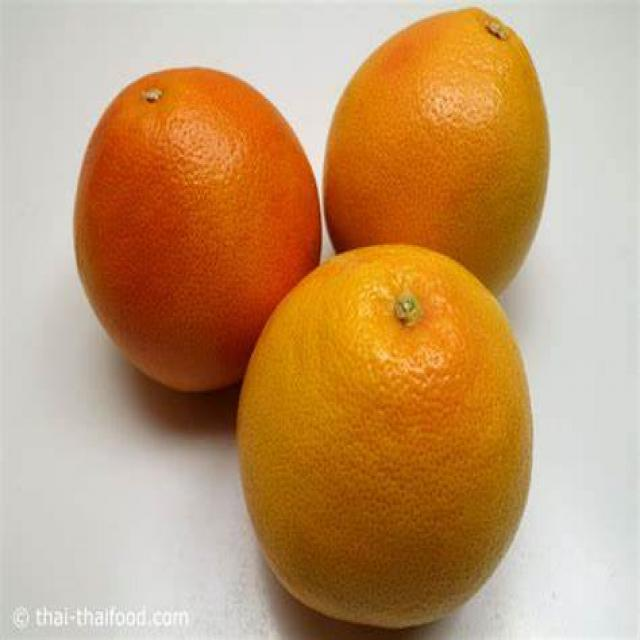Orange: (234, 244, 537, 628), (70, 66, 324, 394), (324, 9, 556, 298)
